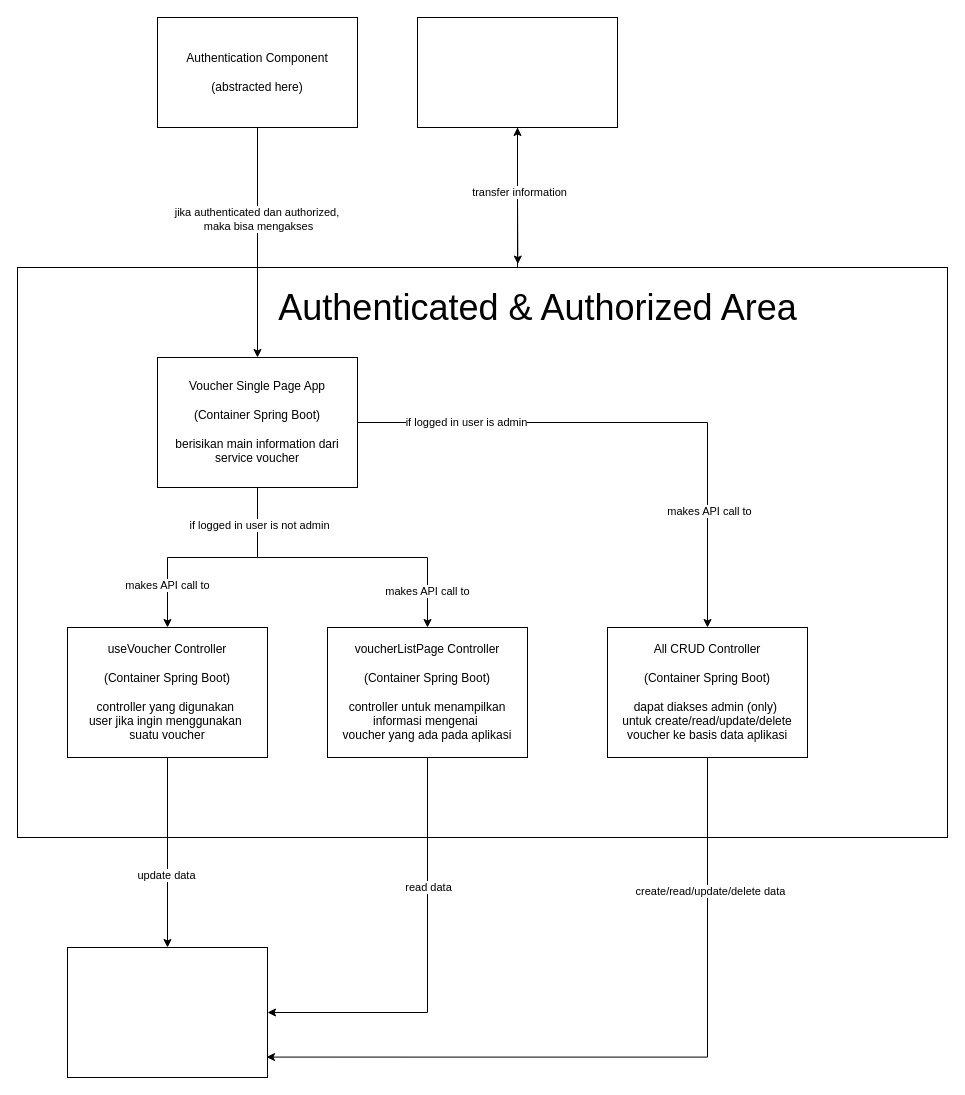
This 965x1095 diagram has some shape labels left out. Here are the shapes that lost their labels. From the top down, the box of each, then its label:
(416, 16, 618, 128): Other Component (abstracted here)
(66, 946, 268, 1078): Database stored all information regarding voucher service
